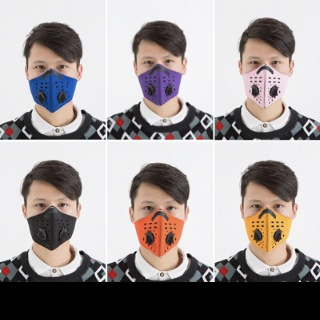with_mask: (136, 198, 184, 256), (26, 195, 76, 249), (28, 58, 76, 112), (243, 53, 290, 108), (244, 198, 292, 250), (140, 53, 182, 106)
